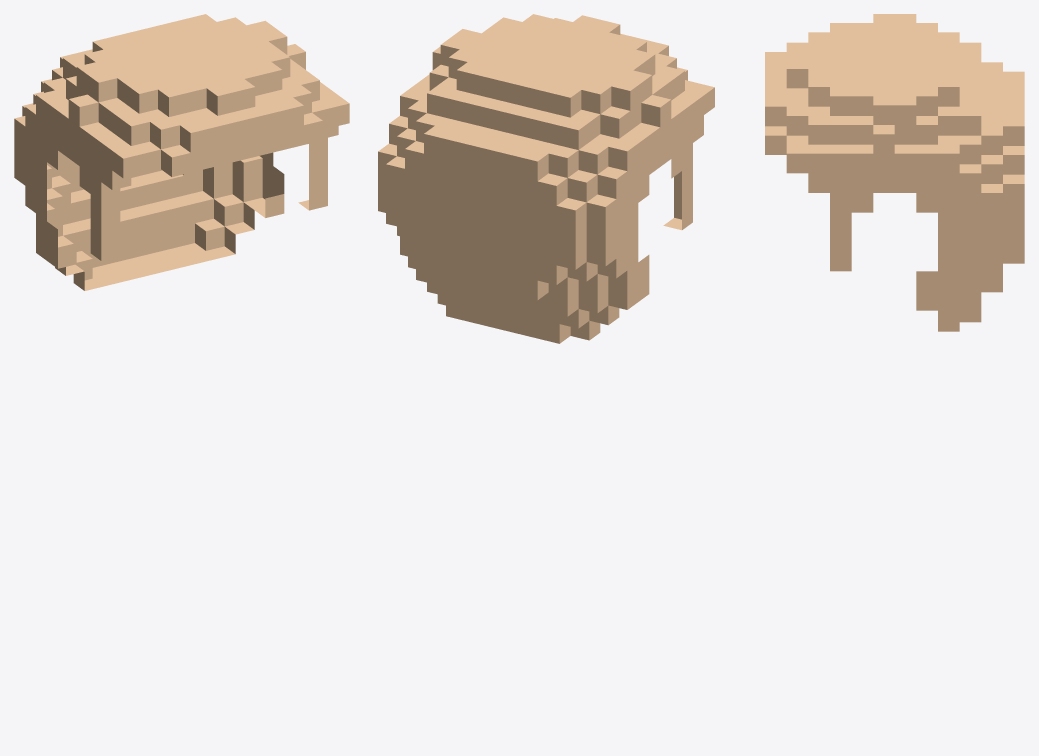
File: man01.obj
The picture shows the model from 3 angles, left to right: view 1: azimuth 30°, elevation 25°; view 2: azimuth 150°, elevation 25°; view 3: azimuth 270°, elevation 25°; orthographic projection.
Bounding box in the file's own units: 1.6 × 3.2 × 1.3.
1 material, 1 textured.
